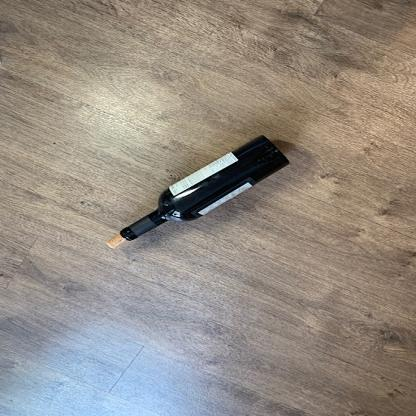trash: (121, 134, 294, 242)
